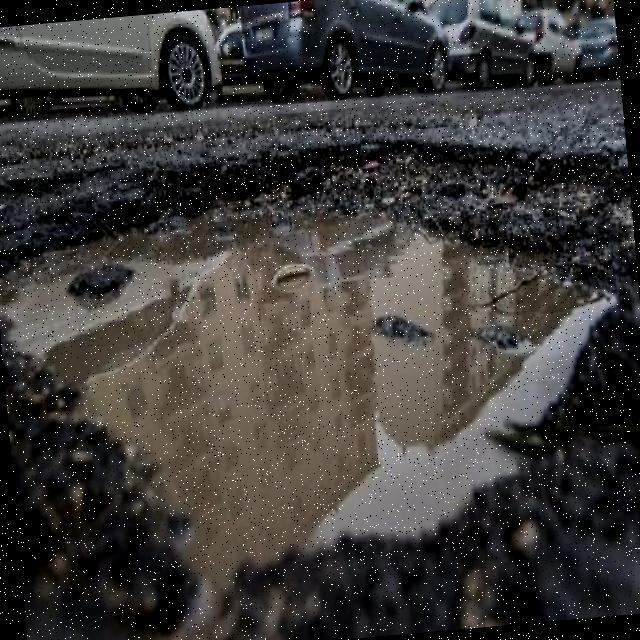Pothole: (0, 147, 640, 589)
